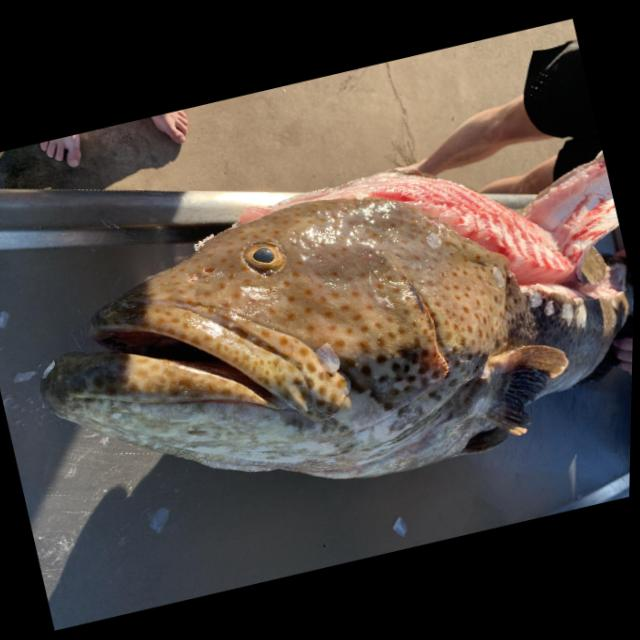Groupers: (0, 113, 637, 553)
